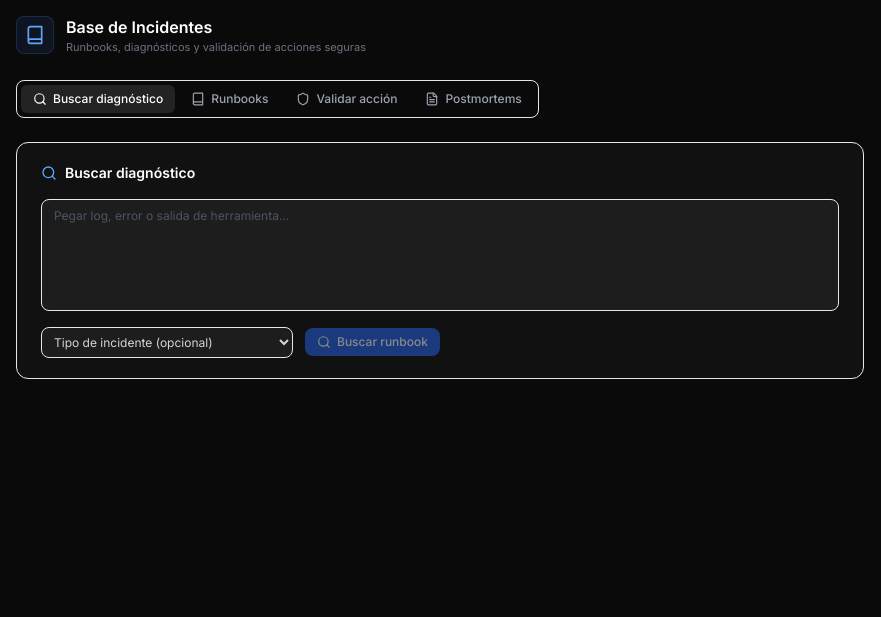
it: Search section › match result shows incident_id
Type "some log text" into the text box with test id "knowledge-search-textarea".
click(440, 254); type("some log text")  # box [41,198,839,310]
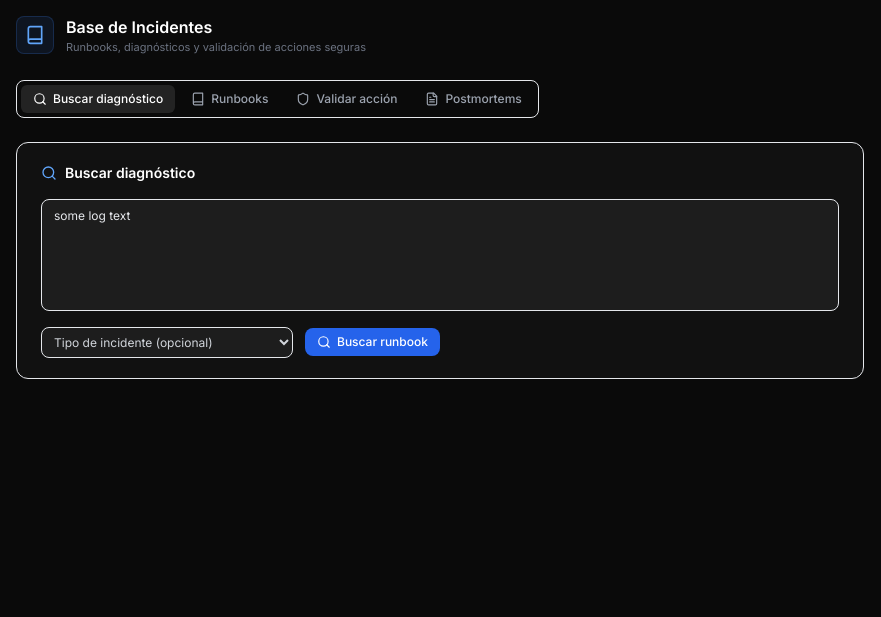
Click the button with test id "knowledge-search-btn".
click(372, 342)  # box [305,328,440,356]
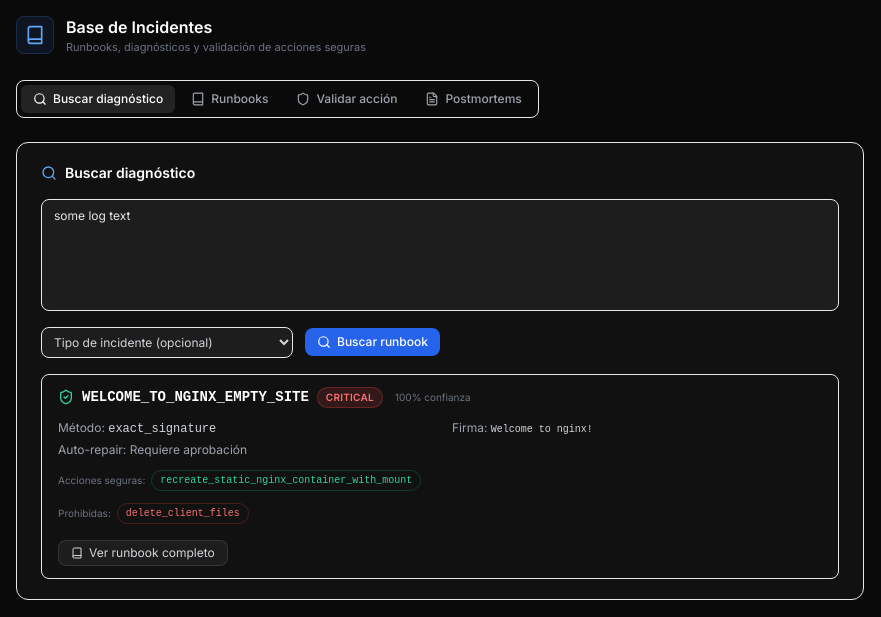
Expected: the element with test id "knowledge-match-result" is shown, [41,374,839,578]
Expected: the element with test id "knowledge-match-result" shows "WELCOME_TO_NGINX_EMPTY_SITE", [82,389,309,405]
